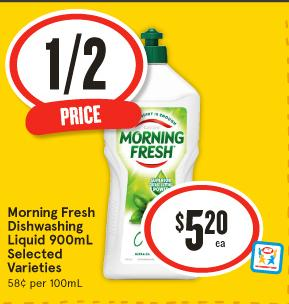description_block: (2, 200, 101, 274)
product_image_block: (104, 23, 208, 188)
promo_text_block: (27, 34, 121, 129)
unit_price_block: (165, 203, 243, 259), (2, 275, 92, 291)
